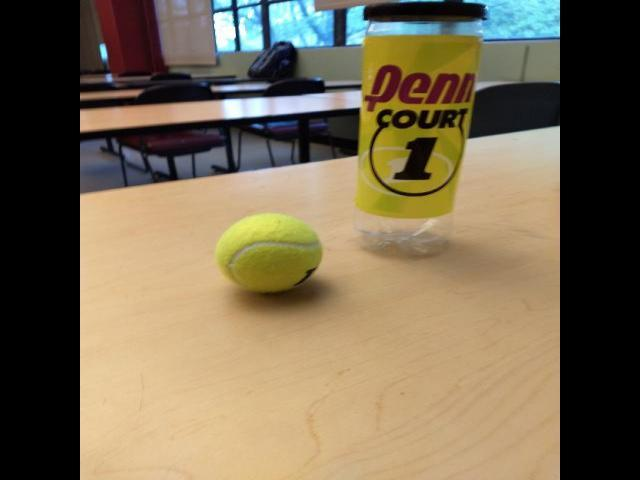tennis-ball: (214, 211, 322, 296)
